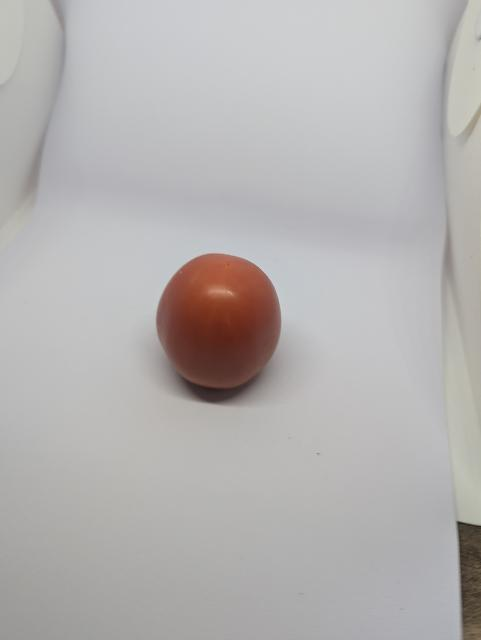red: (151, 245, 286, 402)
